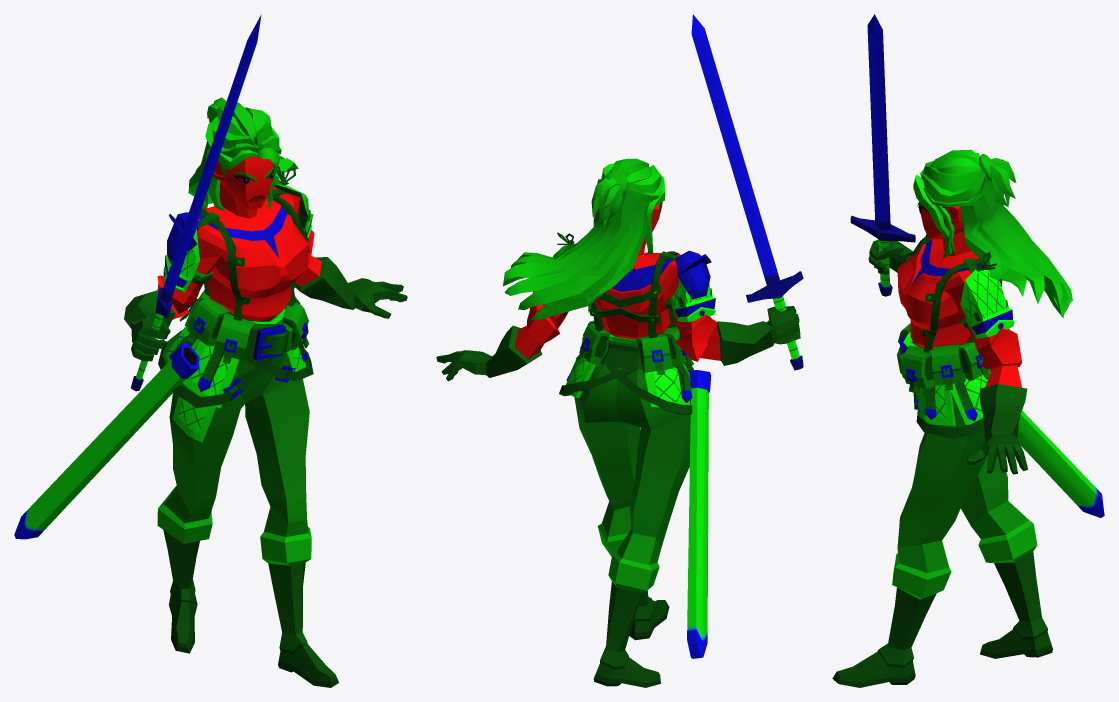
The model's file is F_Swordsman_prePosed.fbx.
3 renders of one model, left to right at view 1: azimuth 30°, elevation 25°; view 2: azimuth 150°, elevation 25°; view 3: azimuth 270°, elevation 25°, orthographic. The views are drawn at different scales.
Visible parts, largest first — view 1: F_Swordsman_prePosed; view 2: F_Swordsman_prePosed; view 3: F_Swordsman_prePosed.
Boxes of the visible parts, <box> form: F_Swordsman_prePosed: <box>14,14,407,687</box>; F_Swordsman_prePosed: <box>436,14,803,687</box>; F_Swordsman_prePosed: <box>832,14,1104,687</box>.
Bounding box in the file's own units: 133 × 254 × 96.71.
